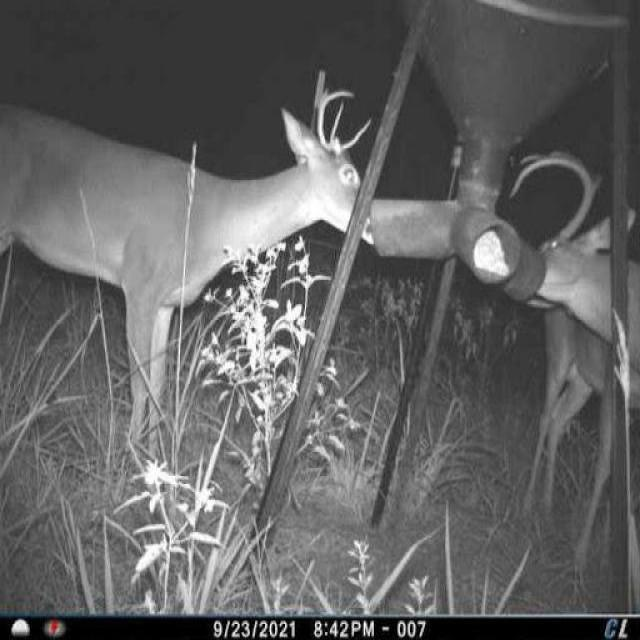deer: (0, 79, 369, 465), (500, 140, 640, 576)
